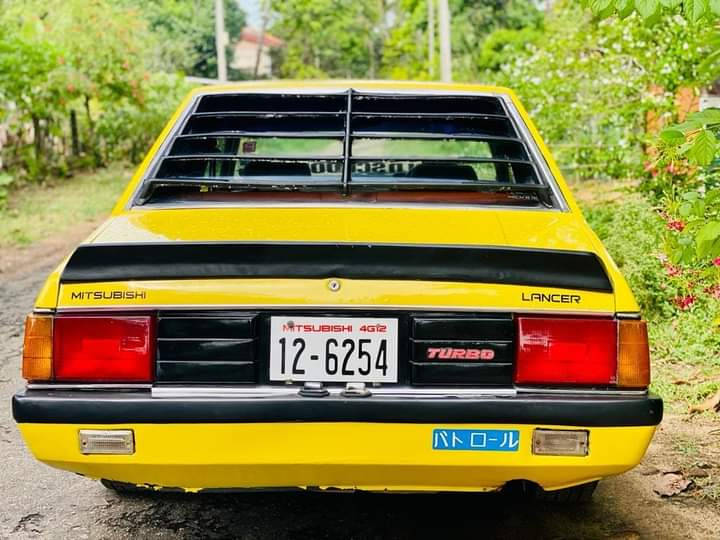number_plate: (270, 319, 395, 381)
